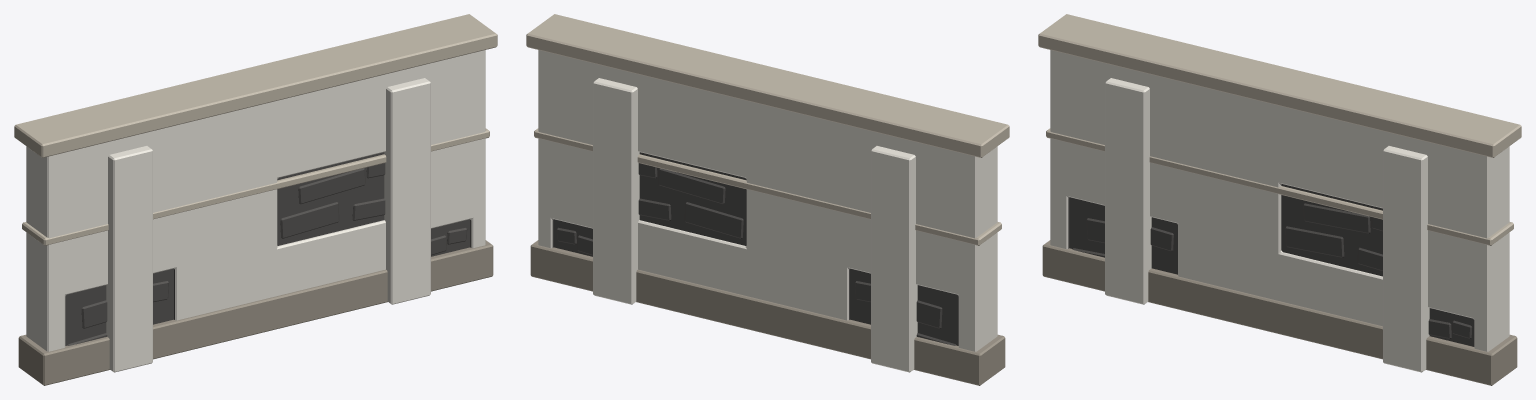
Rendered from TC_ENV_CoralWallSegment_V1.gltf.
3 views of the same model, side by side, from view 1: azimuth 30°, elevation 25°; view 2: azimuth 150°, elevation 25°; view 3: azimuth 330°, elevation 25° (orthographic).
Parts seen in each view (by area): view 1: TC_ENV_CoralWallSegment_V1; view 2: TC_ENV_CoralWallSegment_V1; view 3: TC_ENV_CoralWallSegment_V1.
Boxes of the visible parts, box(x1,y1,x2,y2) form: TC_ENV_CoralWallSegment_V1: box(14, 14, 497, 385); TC_ENV_CoralWallSegment_V1: box(526, 14, 1009, 385); TC_ENV_CoralWallSegment_V1: box(1038, 14, 1521, 385).
Bounding box in the file's own units: 6.24 × 3.18 × 0.79.
